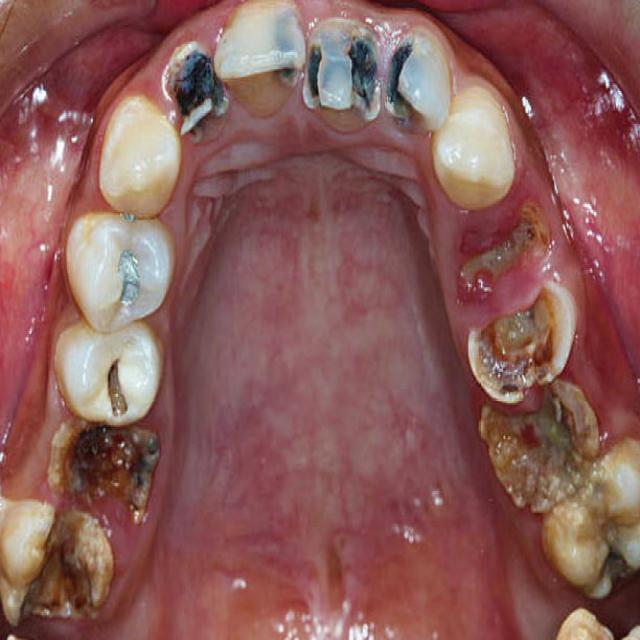caries: (0, 506, 109, 625), (488, 396, 594, 502), (59, 418, 158, 506), (303, 28, 386, 130), (471, 294, 562, 386), (456, 212, 548, 286), (153, 49, 220, 131), (388, 28, 417, 120), (114, 251, 153, 310), (601, 533, 637, 594), (100, 351, 134, 414), (277, 26, 299, 98)
